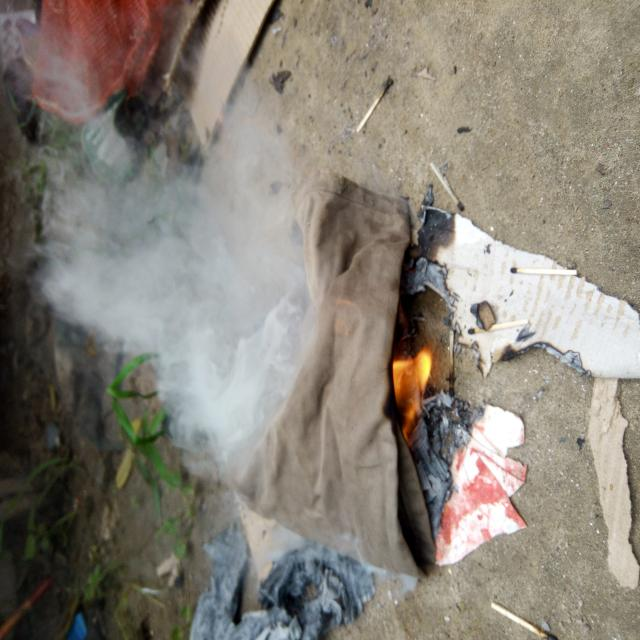Fire: (145, 517, 247, 582)
Smoke: (133, 58, 387, 411)
